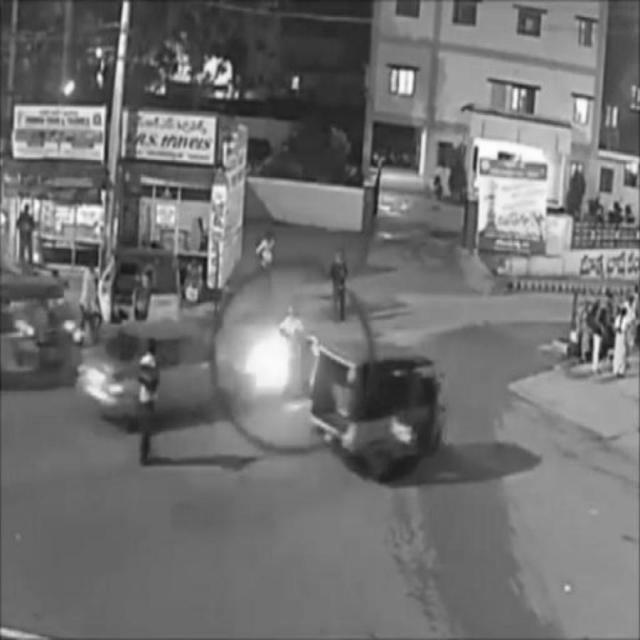accident: (88, 309, 321, 419)
person: (140, 337, 160, 468), (330, 249, 350, 325), (257, 232, 279, 300), (82, 263, 99, 345)
vehicle: (312, 344, 446, 475), (1, 266, 83, 390), (90, 253, 183, 329)
